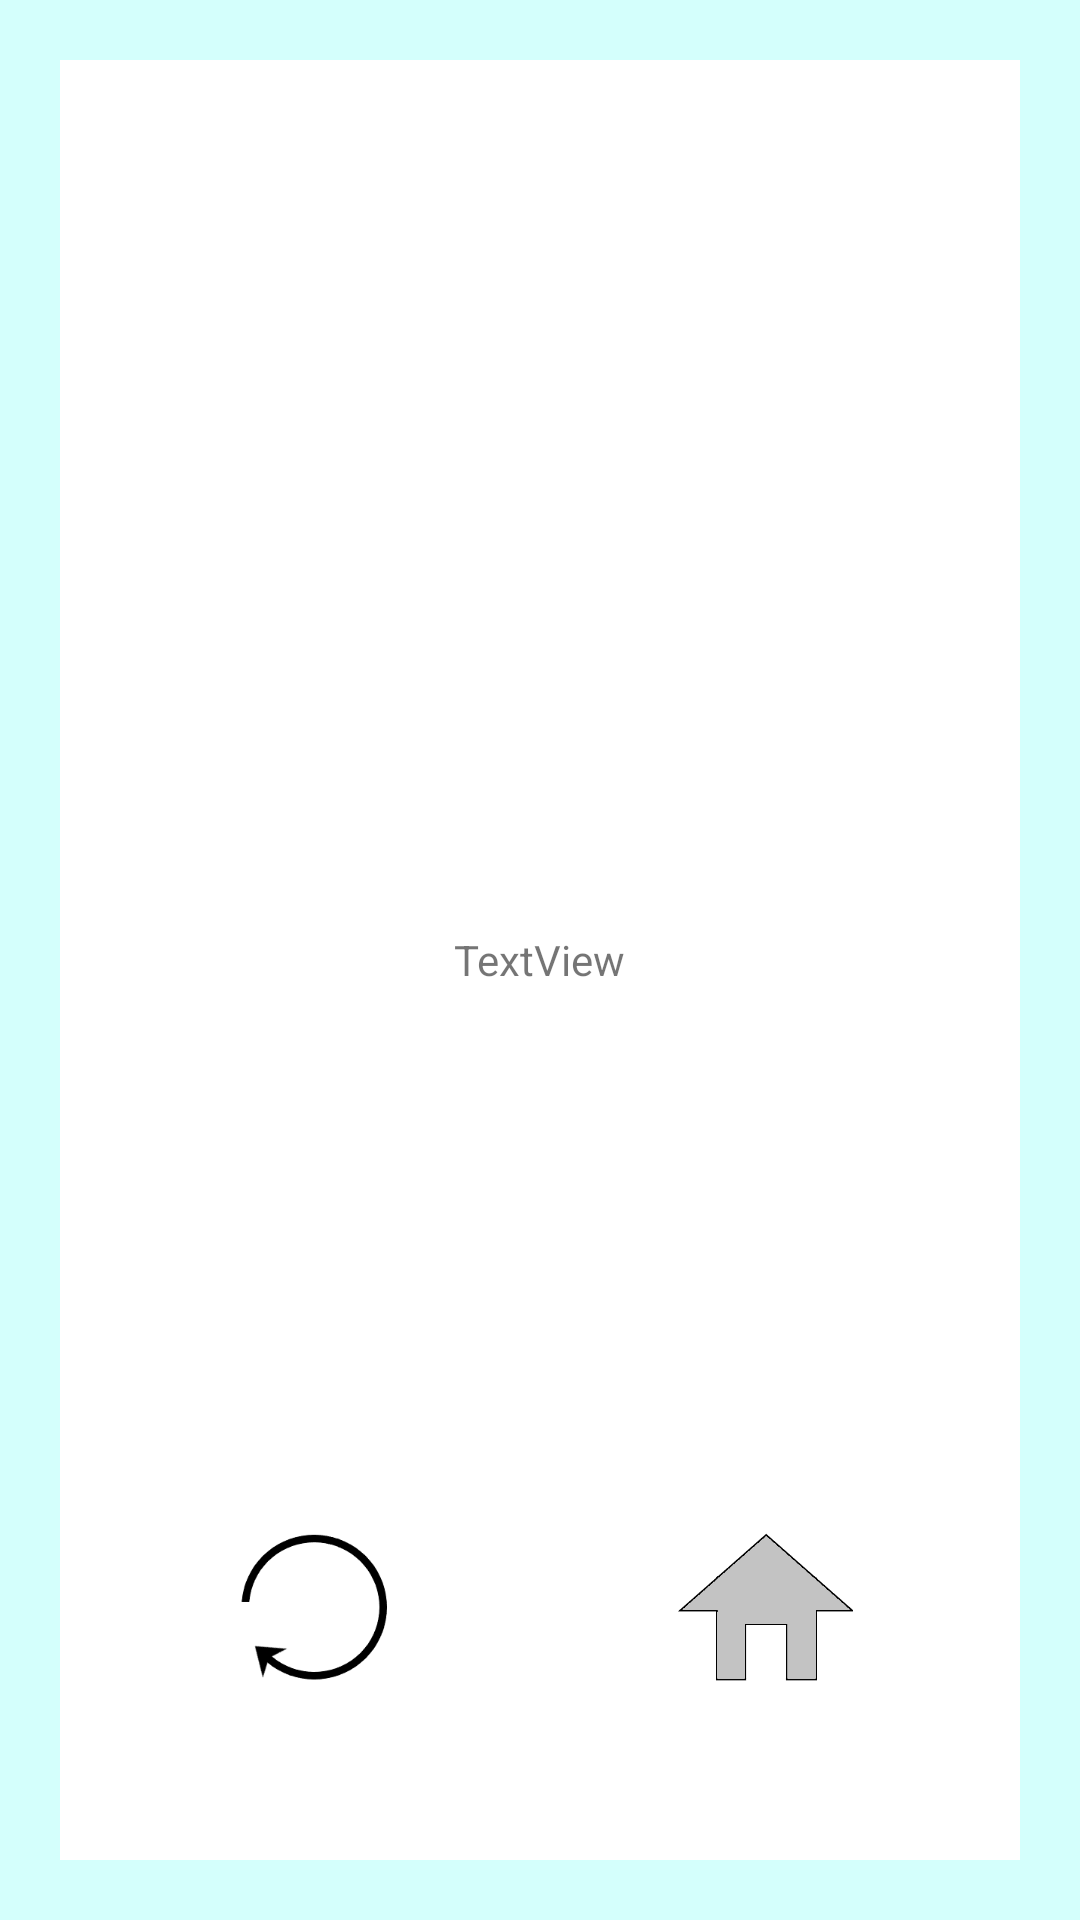

Icons on this 1080px x 1920px Android screen, each with its box as (x1, y1, x2, y2):
home: (678, 1534, 853, 1681)
restart: (241, 1534, 387, 1680)
